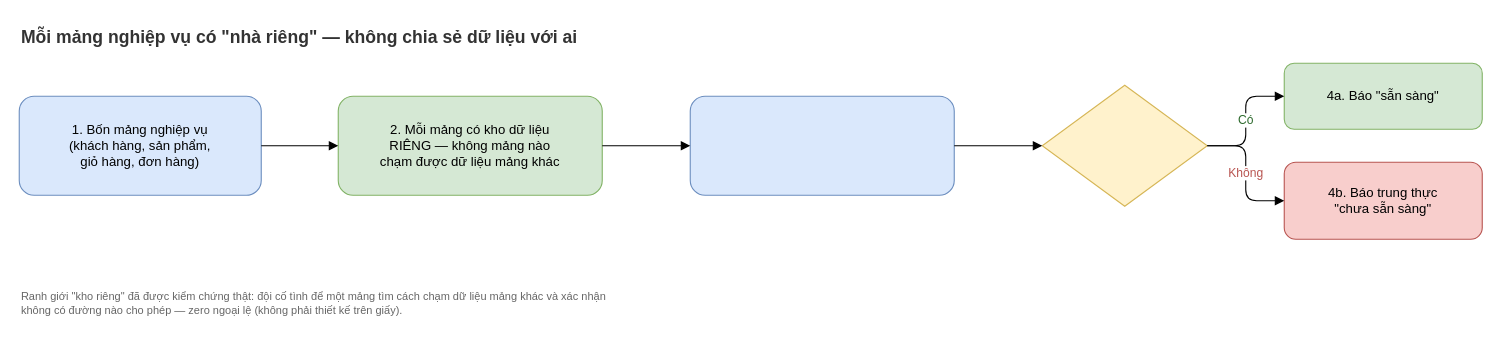
The diagram is 1502 pixels wide and 345 high, and some of its shapes have lost their labels. The centre of each missing label's shape, as x and y in pixels:
"3. Một người có thể chạy đúng MỘT mảng để làm việc — không cần dựng cả 4" belongs at (x=821, y=145).
"Kho dữ liệu riêng kết nối được?" belongs at (x=1124, y=145).
